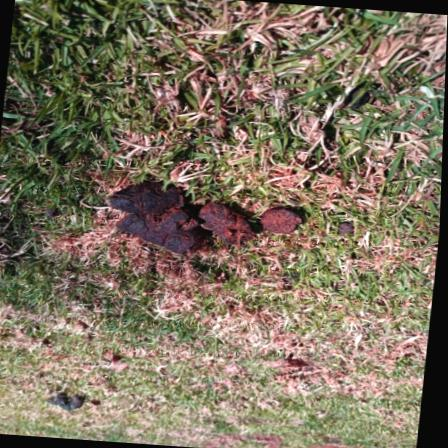dog-poop: (97, 180, 315, 276), (48, 390, 95, 416)
